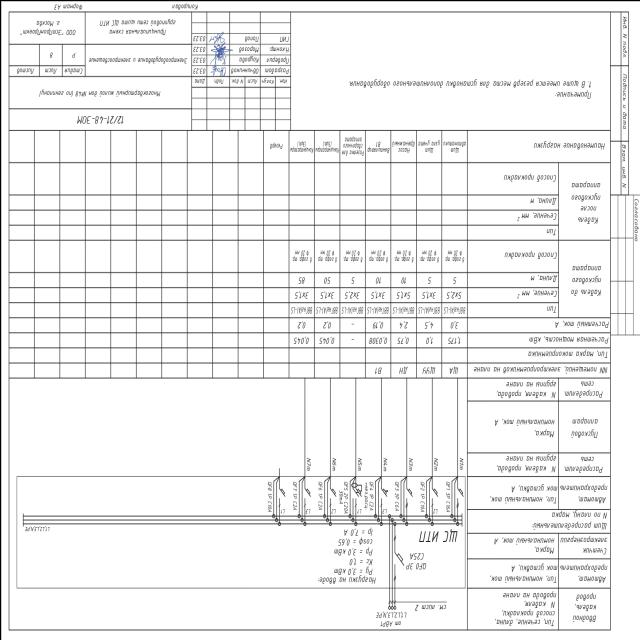-: (417, 527, 459, 545), (405, 551, 426, 571), (362, 478, 373, 512), (336, 481, 347, 514), (392, 491, 398, 513), (418, 492, 424, 512), (316, 492, 322, 511), (444, 490, 449, 512), (266, 492, 271, 512), (292, 490, 296, 510)
QF: (393, 549, 405, 570), (454, 484, 464, 499), (404, 486, 413, 502), (302, 485, 310, 500), (380, 486, 388, 500), (277, 486, 285, 500), (328, 486, 336, 500), (430, 486, 438, 500)
QFD: (349, 481, 362, 507)
